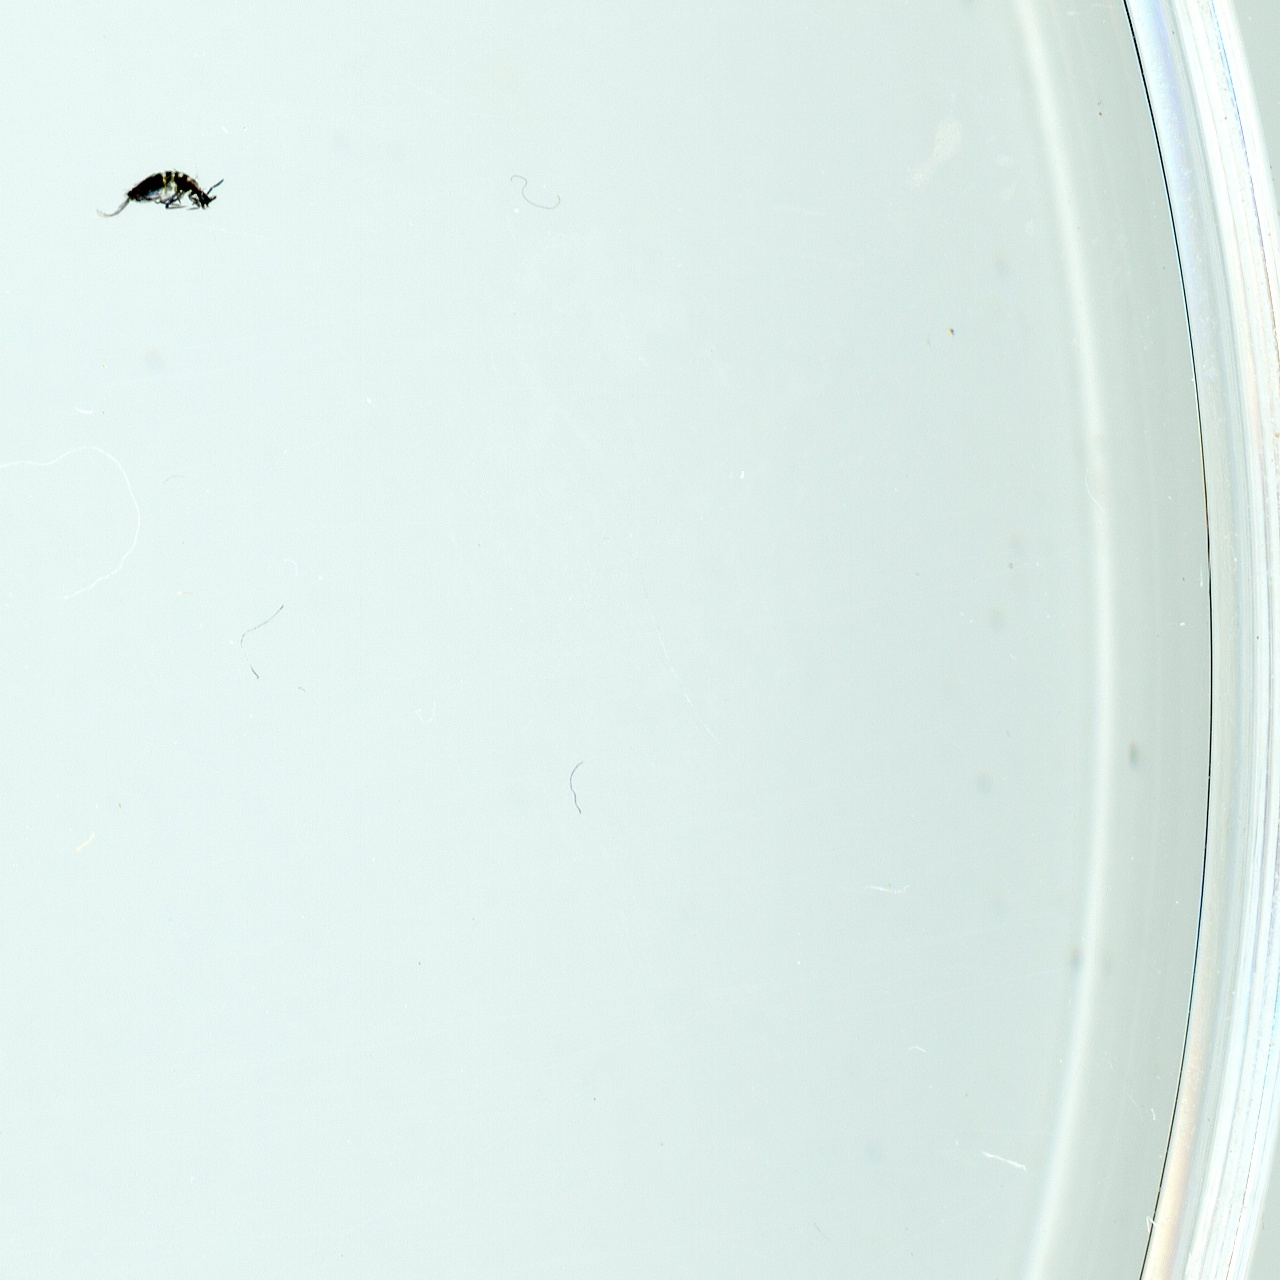arthropod: (73, 121, 292, 277)
